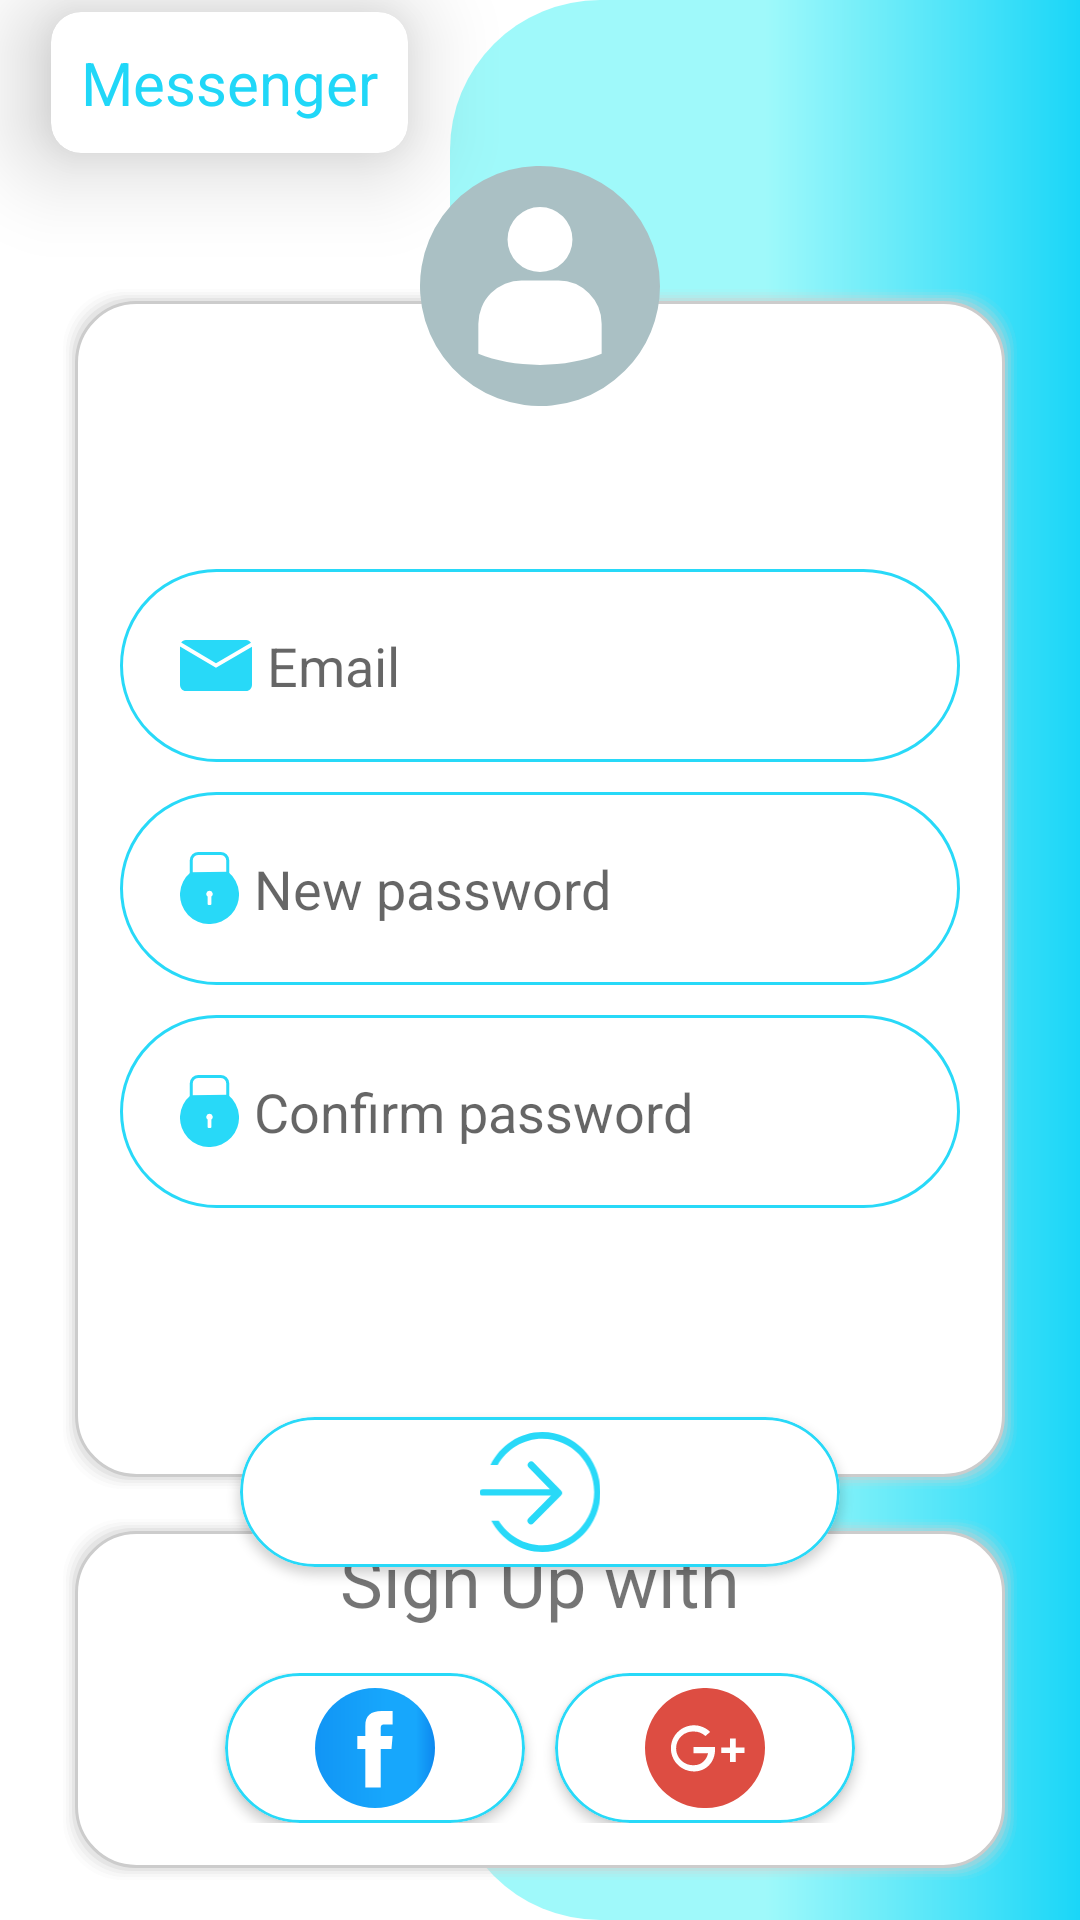

Where to tap for icons on this 1080w x 1920h app screen, as point (x, y):
user: point (540, 286)
